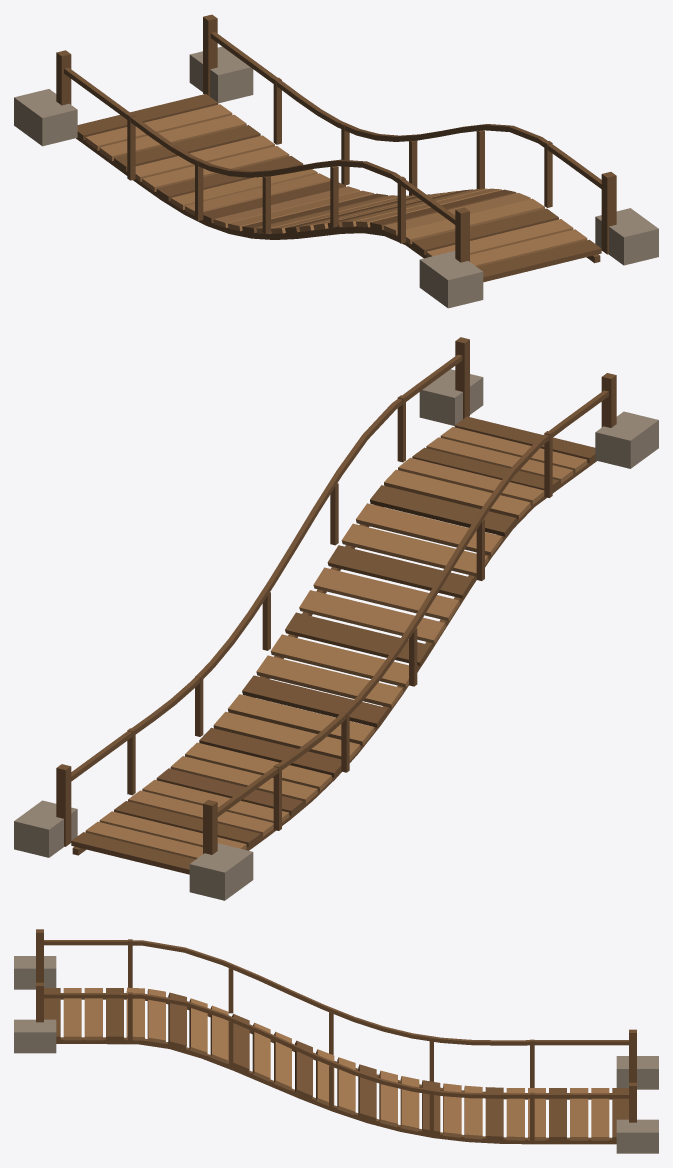
Rendered from cau-0.glb.
3 views of the same model, one above another, from view 1: azimuth 30°, elevation 25°; view 2: azimuth 150°, elevation 25°; view 3: azimuth 270°, elevation 25° (orthographic). The views are drawn at different scales.
Visible parts, largest first — view 1: cau-0; view 2: cau-0; view 3: cau-0.
Boxes of the visible parts, <box> form: cau-0: <box>14,14,658,308</box>; cau-0: <box>14,337,658,900</box>; cau-0: <box>14,929,658,1153</box>.
Bounding box in the file's own units: 3.6 × 3.59 × 12.84.
1 material, 1 textured.
